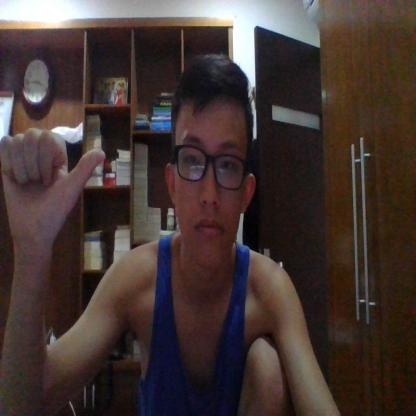left: (0, 128, 107, 238)
